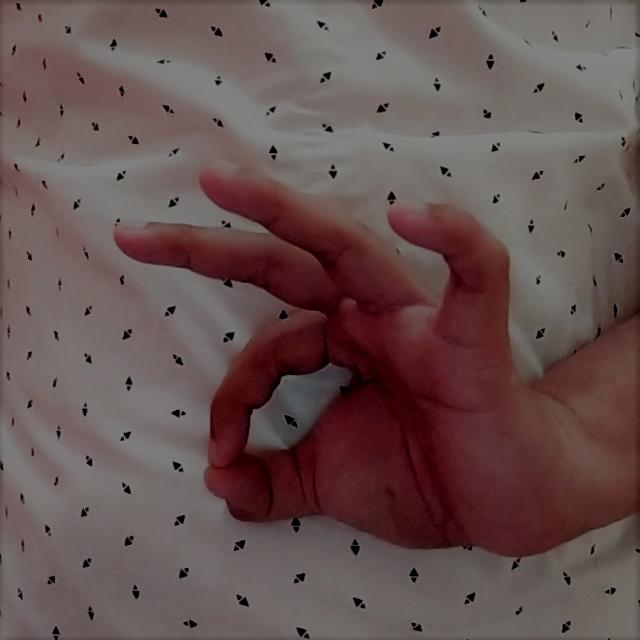O: (97, 149, 563, 567)
